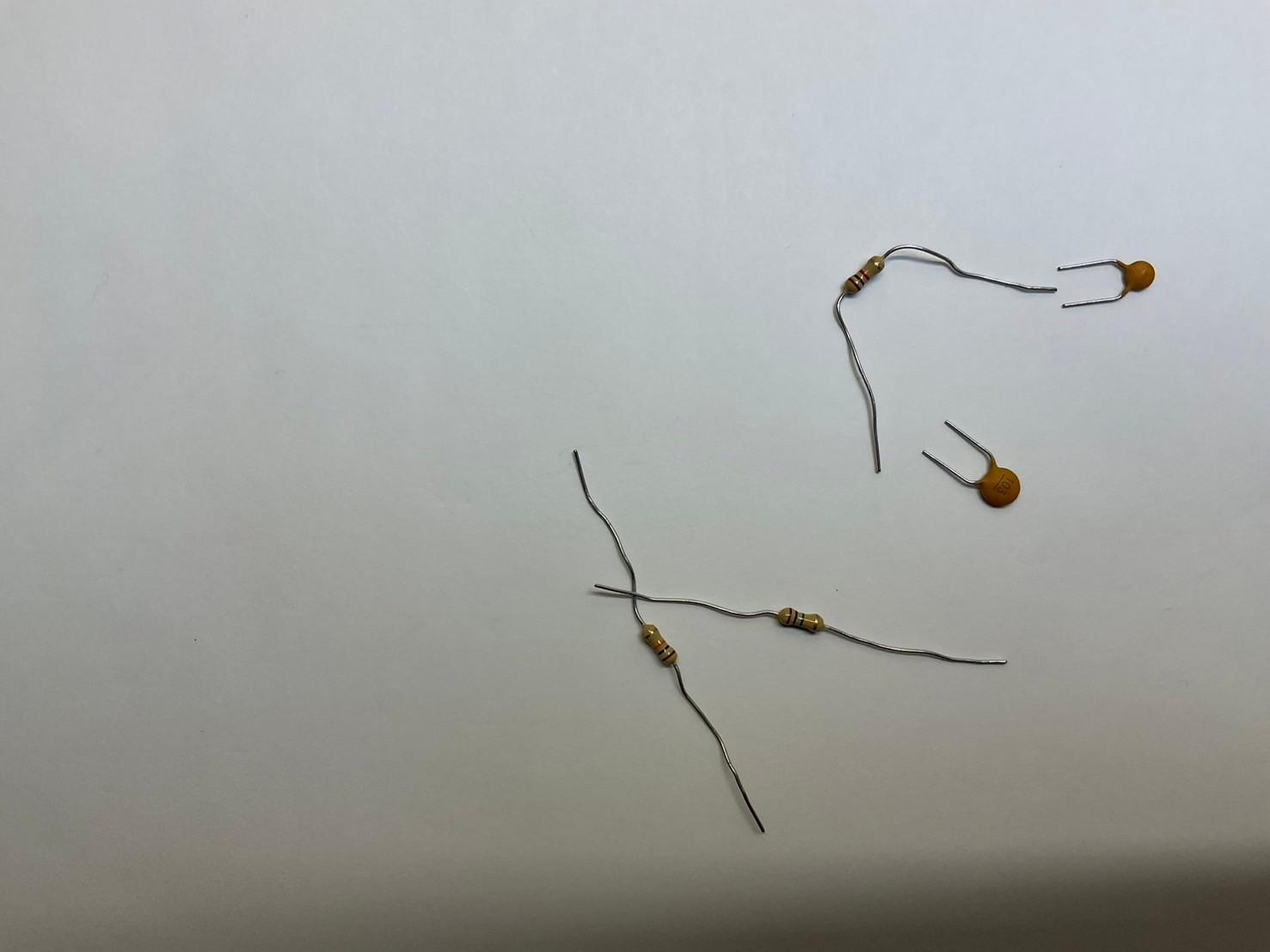resistor: (842, 255, 886, 297), (644, 625, 680, 670), (776, 605, 828, 634)
